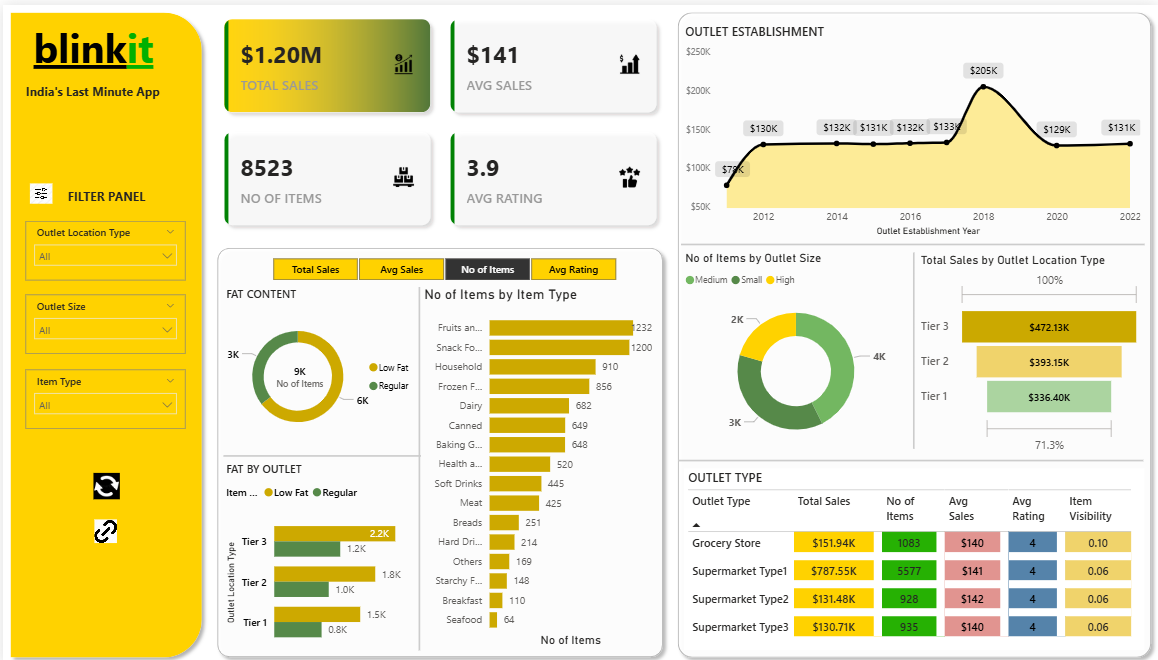

This screenshot's page, from the dashboard's own definition file:
{"tool":"powerbi","page":{"name":"Page 1","canvas":[1400,800],"ordinal":0},"visuals":[{"type":"shape","box":[0,0,250,800],"z":0},{"type":"textbox","box":[10,12.5,197.5,76.2],"z":1000},{"type":"textbox","box":[13.8,88.8,188.8,31.2],"z":2000},{"type":"cardVisual","fields":{"Data":["BlinkIT Grocery Data.Total Sales","BlinkIT Grocery Data.Avg Sales","BlinkIT Grocery Data.No of Items","BlinkIT Grocery Data.Avg Rating"]},"box":[250,0,558,284],"z":3000},{"type":"shape","box":[250,286,558,514],"z":4000},{"type":"donutChart","title":"FAT CONTENT","fields":{"Y":["BlinkIT Grocery Data.No of Items"],"Category":["BlinkIT Grocery Data.Item Fat Content"]},"box":[266,340,240,202],"z":5000},{"type":"slicer","fields":{"Values":["Metrics.Metrics"]},"box":[301.7,300,465,40],"z":6000},{"type":"cardVisual","fields":{"Data":["BlinkIT Grocery Data.No of Items"]},"box":[302,414,116,72],"z":7000},{"type":"clusteredBarChart","title":"FAT BY OUTLET","fields":{"Y":["BlinkIT Grocery Data.No of Items"],"Category":["BlinkIT Grocery Data.Outlet Location Type"],"Series":["BlinkIT Grocery Data.Item Fat Content"]},"box":[266,552,240,240],"z":8000},{"type":"shape","box":[266.7,541.7,239.3,9.5],"z":9000},{"type":"shape","box":[498.8,341.7,13.1,440.5],"z":10000},{"type":"barChart","fields":{"Y":["BlinkIT Grocery Data.No of Items"],"Category":["BlinkIT Grocery Data.Item Type"]},"box":[506,340,286,442],"z":11000},{"type":"shape","box":[808.5,0,591.5,800],"z":12000},{"type":"lineChart","title":"OUTLET ESTABLISHMENT","fields":{"Category":["BlinkIT Grocery Data.Outlet Establishment Year"],"Y":["BlinkIT Grocery Data.Total Sales"]},"box":[822.5,22.5,562,262],"z":13000},{"type":"funnel","fields":{"Category":["BlinkIT Grocery Data.Outlet Location Type"],"Y":["BlinkIT Grocery Data.Total Sales"]},"box":[1108,300,276,248],"z":14000},{"type":"donutChart","fields":{"Y":["BlinkIT Grocery Data.No of Items"],"Category":["BlinkIT Grocery Data.Outlet Size"]},"box":[822,298,278,248],"z":15000},{"type":"shape","box":[822.3,281.5,562.3,16.9],"z":16000},{"type":"shape","box":[1100,300,8,238],"z":17000},{"type":"shape","box":[818,538,564,28],"z":18000},{"type":"pivotTable","title":"OUTLET TYPE","fields":{"Rows":["BlinkIT Grocery Data.Outlet Type"],"Values":["BlinkIT Grocery Data.Total Sales","BlinkIT Grocery Data.No of Items","BlinkIT Grocery Data.Avg Sales","BlinkIT Grocery Data.Avg Rating","Avg(BlinkIT Grocery Data.Item Visibility)"]},"box":[826,562,558,220],"z":19000},{"type":"slicer","fields":{"Values":["BlinkIT Grocery Data.Outlet Location Type"]},"box":[28,262,194,72],"z":20000},{"type":"slicer","fields":{"Values":["BlinkIT Grocery Data.Outlet Size"]},"box":[28,350,194,72],"z":21000},{"type":"slicer","fields":{"Values":["BlinkIT Grocery Data.Item Type"]},"box":[28,442,194,72],"z":22000},{"type":"textbox","box":[65,216.2,120,30],"z":23000},{"type":"image","box":[27.5,211.2,37.5,35],"z":24000},{"type":"image","box":[103.8,562.5,43.8,42.5],"z":25000},{"type":"image","box":[106.2,618.8,37.5,38.8],"z":26000}]}

Visuals, with their boxes in screenshot pixels (x1, y1, x2, y2), scaled from the page's 1400x800 canvas onto the 1158x660 screenshot:
shape: Rect(0, 0, 207, 659)
textbox: Rect(8, 10, 172, 73)
textbox: Rect(11, 73, 168, 99)
cardVisual - BlinkIT Grocery Data.Total Sales x BlinkIT Grocery Data.Avg Sales: Rect(207, 0, 668, 234)
shape: Rect(207, 236, 668, 659)
"FAT CONTENT" donutChart: Rect(220, 280, 419, 447)
slicer - Metrics.Metrics: Rect(250, 248, 634, 280)
cardVisual - BlinkIT Grocery Data.No of Items: Rect(250, 342, 346, 401)
"FAT BY OUTLET" clusteredBarChart: Rect(220, 455, 419, 653)
shape: Rect(221, 447, 419, 455)
shape: Rect(413, 282, 423, 645)
barChart - BlinkIT Grocery Data.No of Items x BlinkIT Grocery Data.Item Type: Rect(419, 280, 655, 645)
shape: Rect(669, 0, 1157, 659)
"OUTLET ESTABLISHMENT" lineChart: Rect(680, 19, 1145, 235)
funnel - BlinkIT Grocery Data.Outlet Location Type x BlinkIT Grocery Data.Total Sales: Rect(916, 248, 1145, 452)
donutChart - BlinkIT Grocery Data.No of Items x BlinkIT Grocery Data.Outlet Size: Rect(680, 246, 910, 450)
shape: Rect(680, 232, 1145, 246)
shape: Rect(910, 248, 916, 444)
shape: Rect(677, 444, 1143, 467)
"OUTLET TYPE" pivotTable: Rect(683, 464, 1145, 645)
slicer - BlinkIT Grocery Data.Outlet Location Type: Rect(23, 216, 184, 276)
slicer - BlinkIT Grocery Data.Outlet Size: Rect(23, 289, 184, 348)
slicer - BlinkIT Grocery Data.Item Type: Rect(23, 365, 184, 424)
textbox: Rect(54, 178, 153, 203)
image: Rect(23, 174, 54, 203)
image: Rect(86, 464, 122, 499)
image: Rect(88, 511, 119, 543)
